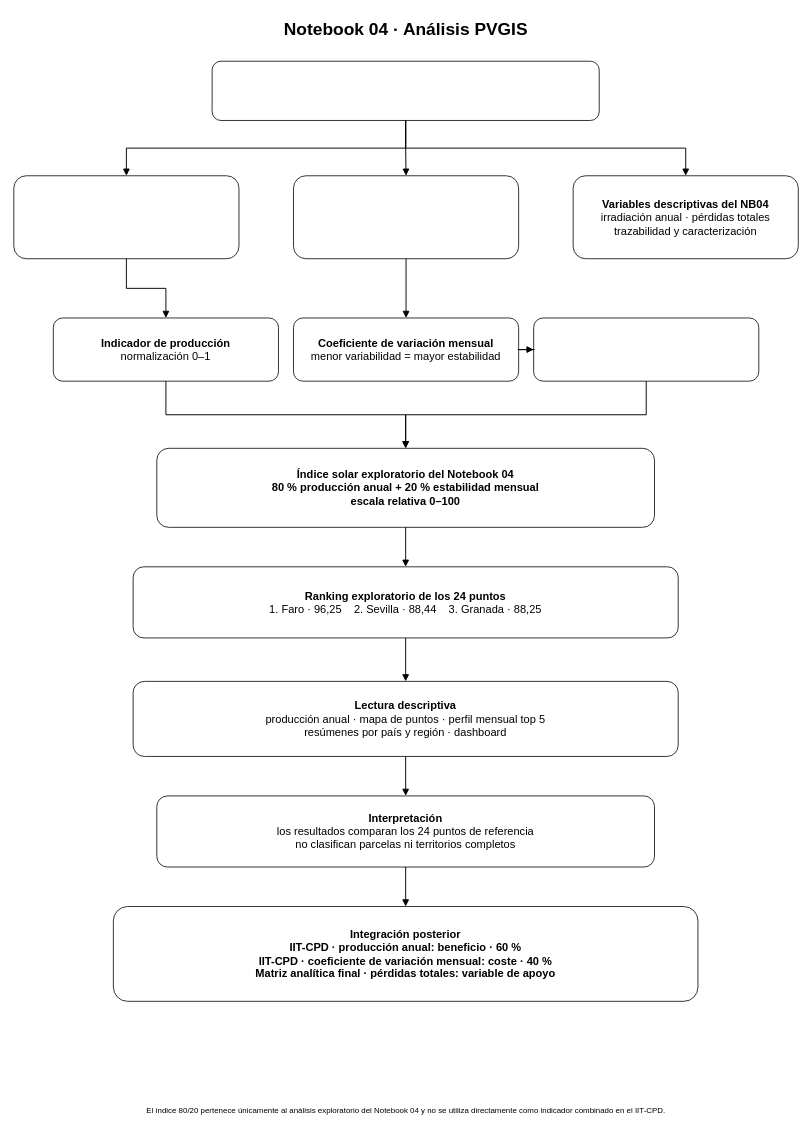
This 812x1141 diagram has some shape labels left out. The shapes that lost their labels are listed below. From the top down, each one's centre as x and y in pixels, then its label:
the point at 405,90: Resultados PVGIS validados 24 puntos · 288 registros mensuales · 24 JSON
the point at 126,217: Producción fotovoltaica anual kWh/kWp·año mayor valor = mayor potencial
the point at 406,217: Producción mensual 12 meses por punto variabilidad estacional
the point at 646,349: Indicador de estabilidad transformación inversa normalizada 0–1
